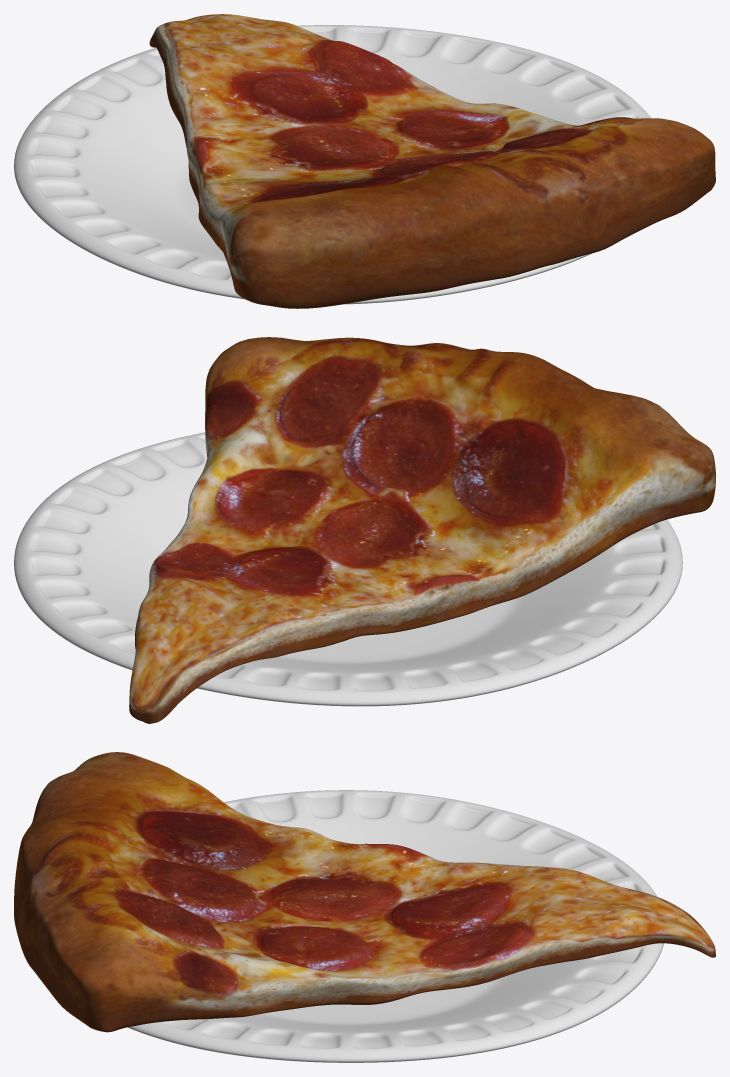
File: pizza.gltf
The picture shows the model from 3 angles, top to bottom: view 1: azimuth 30°, elevation 25°; view 2: azimuth 150°, elevation 25°; view 3: azimuth 270°, elevation 25°; orthographic projection. The views are drawn at different scales.
Visible parts, largest first — view 1: pizza; view 2: pizza; view 3: pizza.
Part boxes in pixels (box(x1,y1,x2,y2)): pizza: box(14, 14, 715, 308); pizza: box(14, 337, 715, 723); pizza: box(14, 752, 715, 1062).
Bounding box in the file's own units: 13 × 3.28 × 14.35.
Materials: 2 (2 with a texture image).
